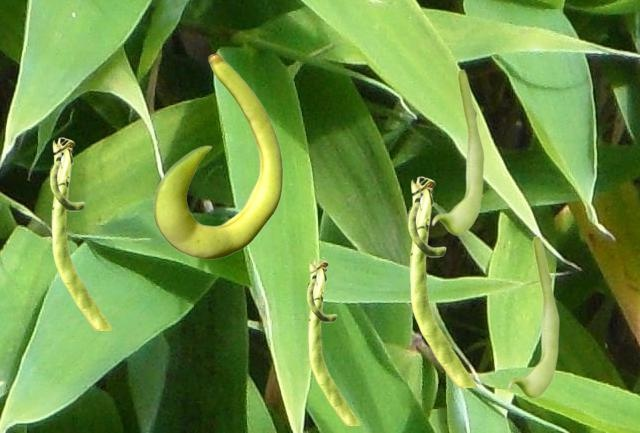french_bean: (153, 53, 282, 258), (407, 176, 476, 386), (49, 137, 112, 329), (306, 258, 360, 424), (431, 68, 483, 234), (507, 235, 558, 397)
